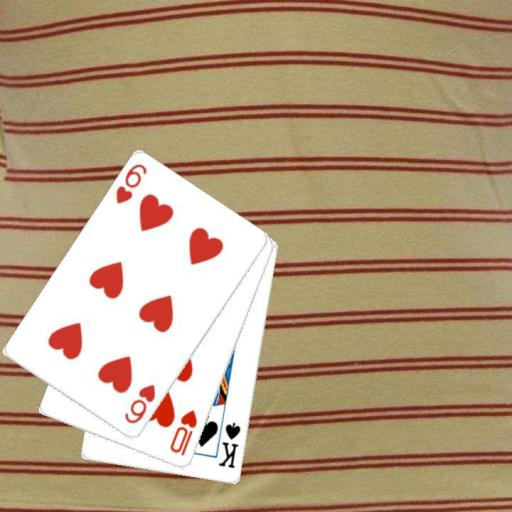10H: (167, 407, 199, 457)
6H: (112, 161, 149, 206), (121, 381, 157, 426)
KS: (216, 420, 243, 470)
